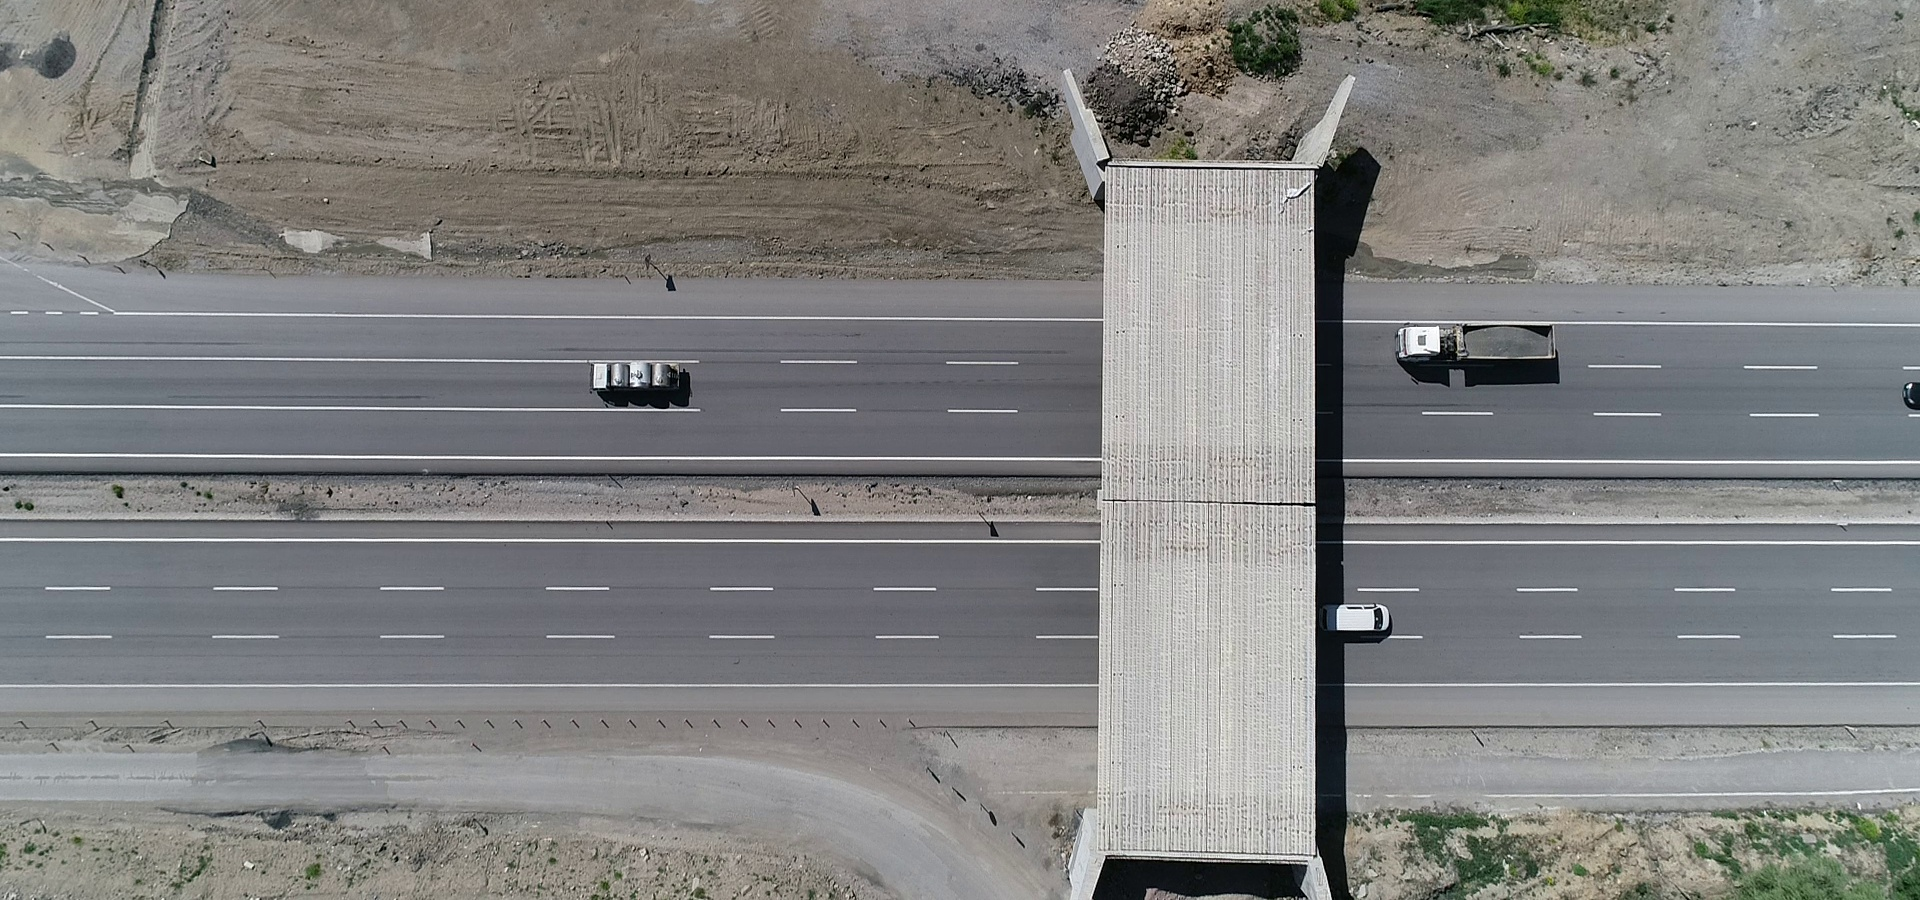arac: (1392, 310, 1580, 369), (585, 354, 691, 397), (1322, 595, 1403, 649), (1900, 372, 1918, 413)
